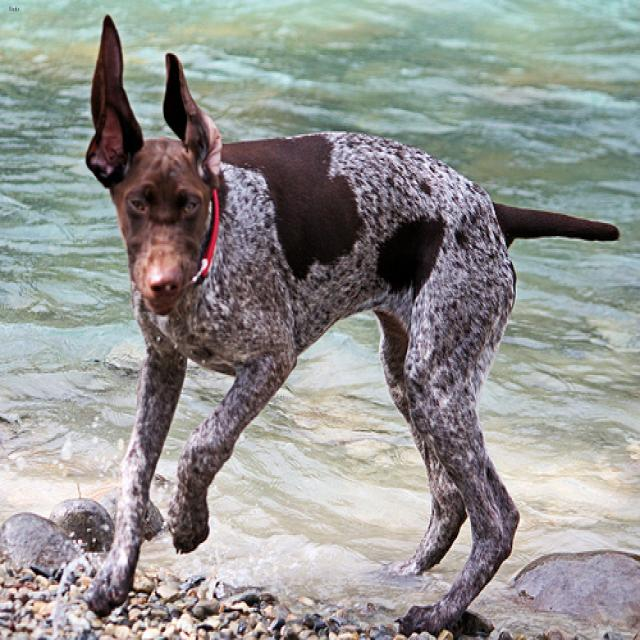dog-german_shorthaired: (76, 8, 634, 637)
